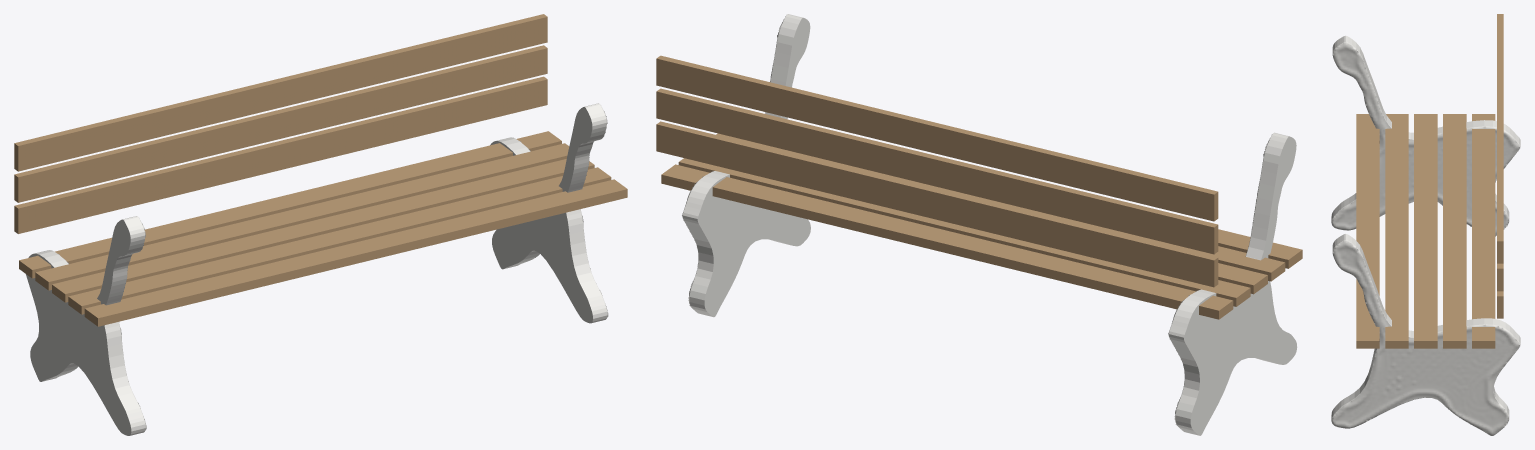
The model's file is terilgan.glb.
3 views of the same model, side by side, from view 1: azimuth 30°, elevation 25°; view 2: azimuth 150°, elevation 25°; view 3: azimuth 270°, elevation 25° (orthographic). The views are drawn at different scales.
Visible parts, largest first — view 1: Orqa0, Orqa1, Orqa2, Sed0, t-1, t1, Sed3, Sed2, Sed1, Sed4; view 2: Orqa2, Orqa0, Orqa1, t-1, Sed4, t1, Sed3, Sed1, Sed0, Sed2; view 3: t1, t-1, Sed2, Sed3, Sed1, Sed4, Sed0, Orqa2, Orqa1.
Boxes of the visible parts, x1=… form: Orqa0: x1=14, y1=76, x2=547, y2=233; Orqa1: x1=14, y1=45, x2=547, y2=202; Orqa2: x1=14, y1=14, x2=547, y2=171; Sed0: x1=84, y1=179, x2=627, y2=326; t-1: x1=26, y1=216, x2=146, y2=435; t1: x1=490, y1=103, x2=608, y2=323; Sed3: x1=35, y1=143, x2=569, y2=290; Sed2: x1=52, y1=159, x2=594, y2=302; Sed1: x1=68, y1=167, x2=611, y2=314; Sed4: x1=19, y1=131, x2=561, y2=278; Orqa2: x1=656, y1=55, x2=1218, y2=221; Orqa0: x1=656, y1=121, x2=1218, y2=287; Orqa1: x1=656, y1=88, x2=1218, y2=254; t-1: x1=1168, y1=132, x2=1297, y2=435; Sed4: x1=661, y1=164, x2=1233, y2=319; t1: x1=682, y1=14, x2=810, y2=317; Sed3: x1=678, y1=158, x2=1250, y2=306; Sed1: x1=716, y1=133, x2=1285, y2=281; Sed0: x1=1218, y1=229, x2=1302, y2=268; Sed2: x1=1218, y1=263, x2=1267, y2=294; t1: x1=1331, y1=234, x2=1520, y2=435; t-1: x1=1331, y1=35, x2=1520, y2=236; Sed2: x1=1414, y1=114, x2=1437, y2=348; Sed3: x1=1443, y1=114, x2=1466, y2=348; Sed1: x1=1385, y1=114, x2=1408, y2=348; Sed4: x1=1472, y1=114, x2=1495, y2=348; Sed0: x1=1356, y1=114, x2=1379, y2=348; Orqa2: x1=1497, y1=14, x2=1503, y2=263; Orqa1: x1=1497, y1=263, x2=1503, y2=291.
Size of the model in its own units: 1.95 by 0.8386 by 0.6859.
